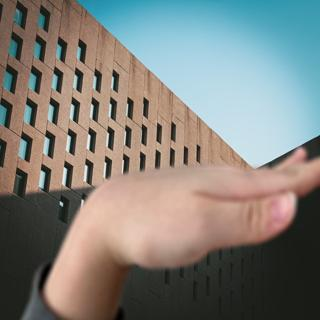Wait: (76, 140, 320, 280)
